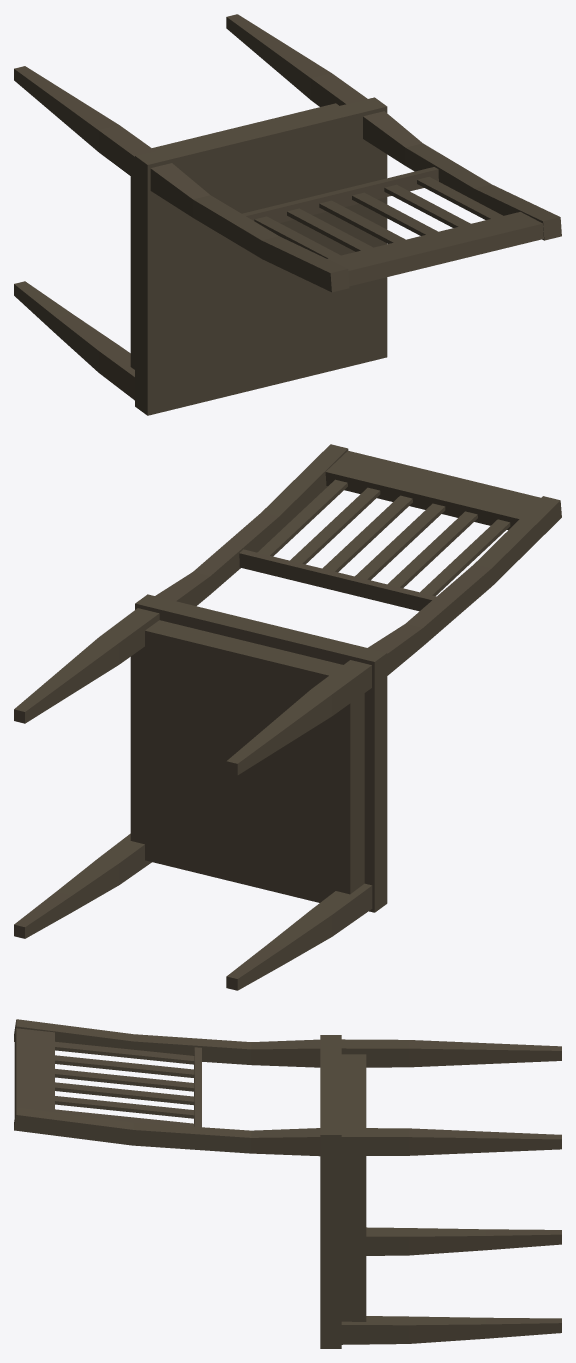
The model's file is chair-wood-4.obj.
3 renders of one model, top to bottom at view 1: azimuth 30°, elevation 25°; view 2: azimuth 150°, elevation 25°; view 3: azimuth 270°, elevation 25°, orthographic. The views are drawn at different scales.
Visible parts, largest first — view 1: chair-wood-4; view 2: chair-wood-4; view 3: chair-wood-4.
Part boxes in pixels (<box>): chair-wood-4: <box>14,14,561,415</box>; chair-wood-4: <box>14,444,561,990</box>; chair-wood-4: <box>14,1019,561,1348</box>.
Bounding box in the file's own units: 15.51 × 16.81 × 36.
